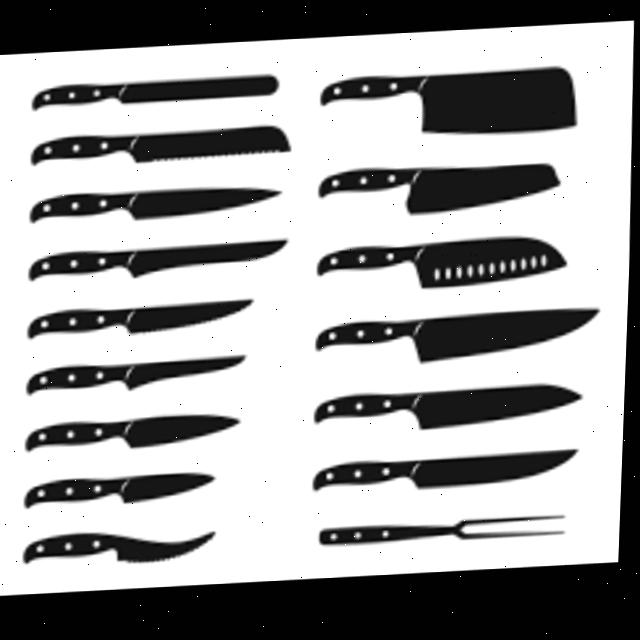knife: (325, 67, 582, 143), (319, 310, 607, 370), (321, 237, 574, 295), (324, 161, 568, 219), (319, 386, 588, 438), (321, 452, 585, 496), (33, 240, 294, 283), (37, 125, 295, 164), (36, 183, 286, 222), (33, 355, 252, 396), (33, 413, 247, 454), (35, 299, 258, 338), (35, 73, 282, 107), (31, 527, 224, 569), (33, 472, 222, 508)
